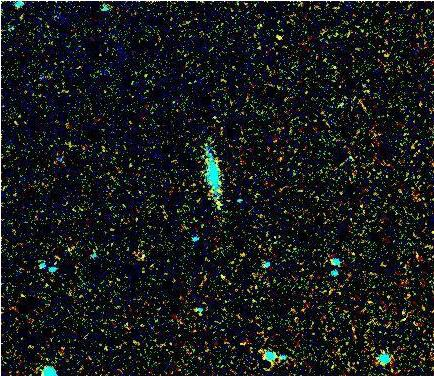star: (262, 25, 292, 55)
